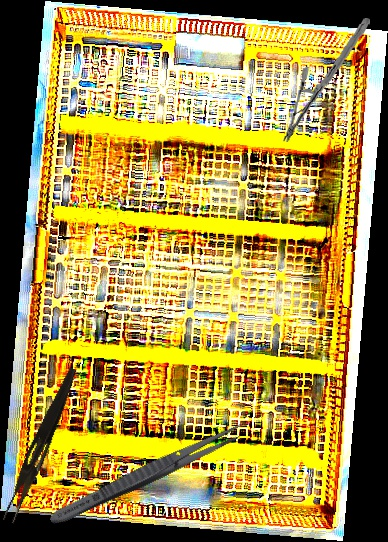Dressing Forceps: (46, 417, 248, 531), (1, 364, 80, 526)
Needle Holder: (282, 11, 371, 149)
